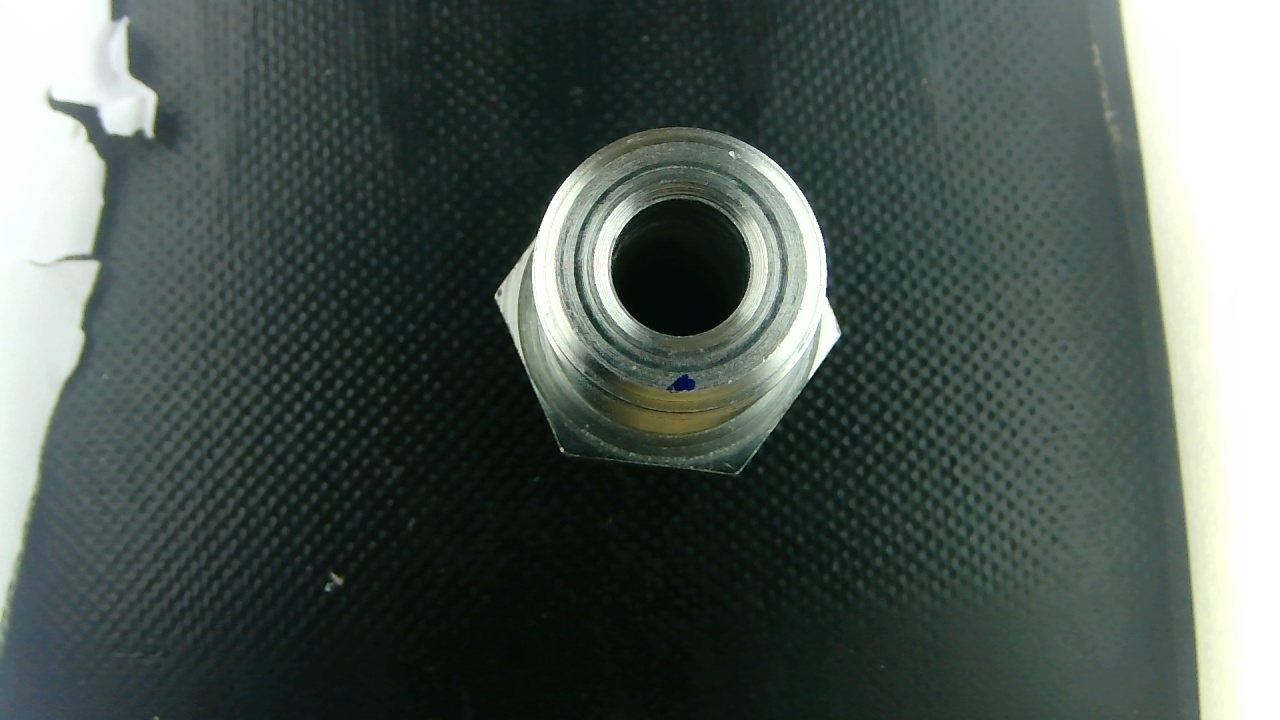okay_adapter: (496, 127, 839, 473)
